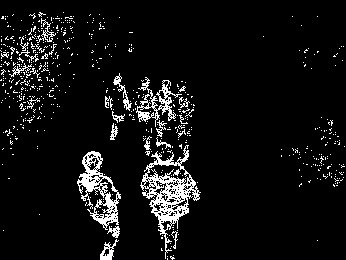person: (139, 143, 202, 260), (75, 150, 123, 260), (173, 78, 198, 164), (131, 76, 156, 157), (104, 73, 131, 144), (154, 77, 175, 144)
